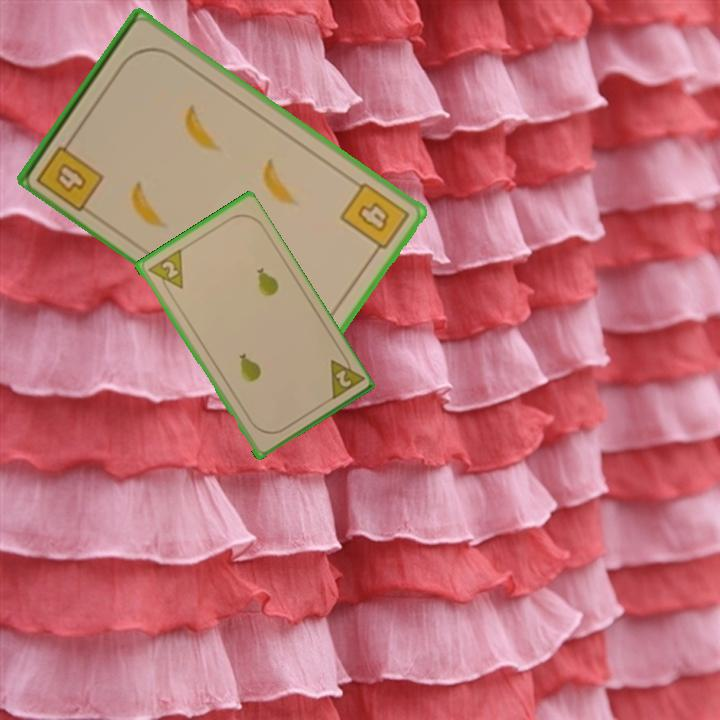2p: (143, 246, 186, 297), (325, 349, 365, 403)
4b: (336, 178, 413, 259), (32, 132, 107, 214)
